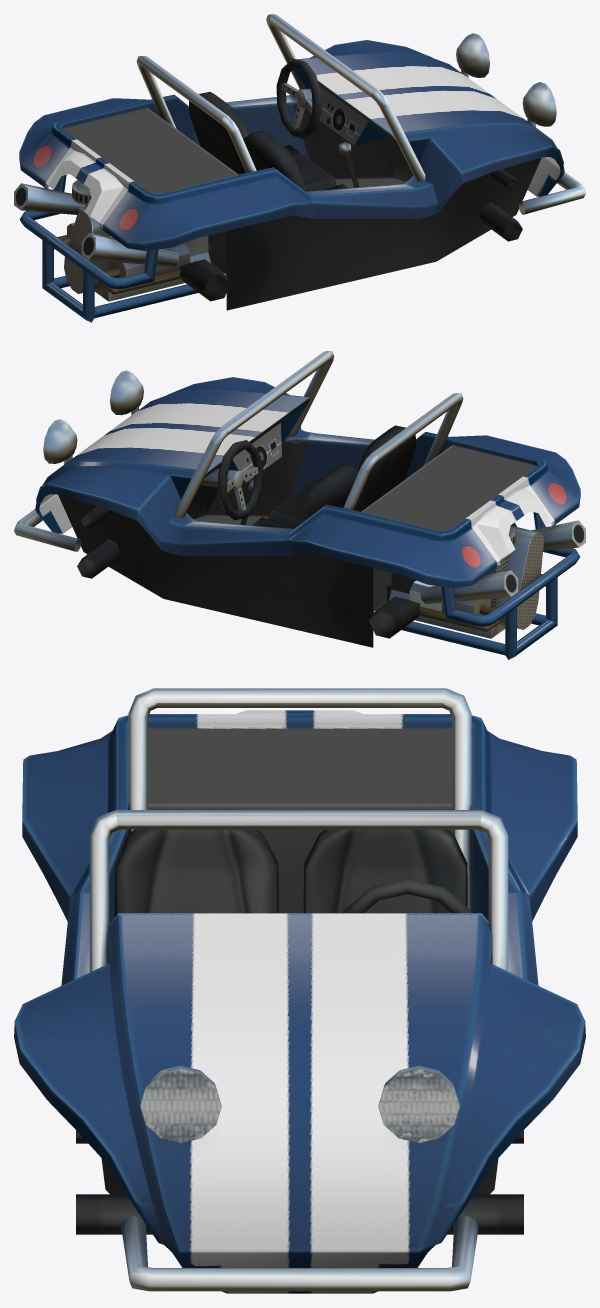
The model's file is f1_dune_buggy_02.dae.
The picture shows the model from 3 angles, top to bottom: view 1: azimuth 30°, elevation 25°; view 2: azimuth 150°, elevation 25°; view 3: azimuth 270°, elevation 25°; orthographic projection. The views are drawn at different scales.
Visible parts, largest first — view 1: dune_buggy_body; view 2: dune_buggy_body; view 3: dune_buggy_body.
Part boxes in pixels (<box>): dune_buggy_body: <box>14,14,585,322</box>; dune_buggy_body: <box>14,351,585,659</box>; dune_buggy_body: <box>14,688,585,1293</box>.
Bounding box in the file's own units: 0.2733 × 0.1543 × 0.1016.
1 material, 1 textured.
